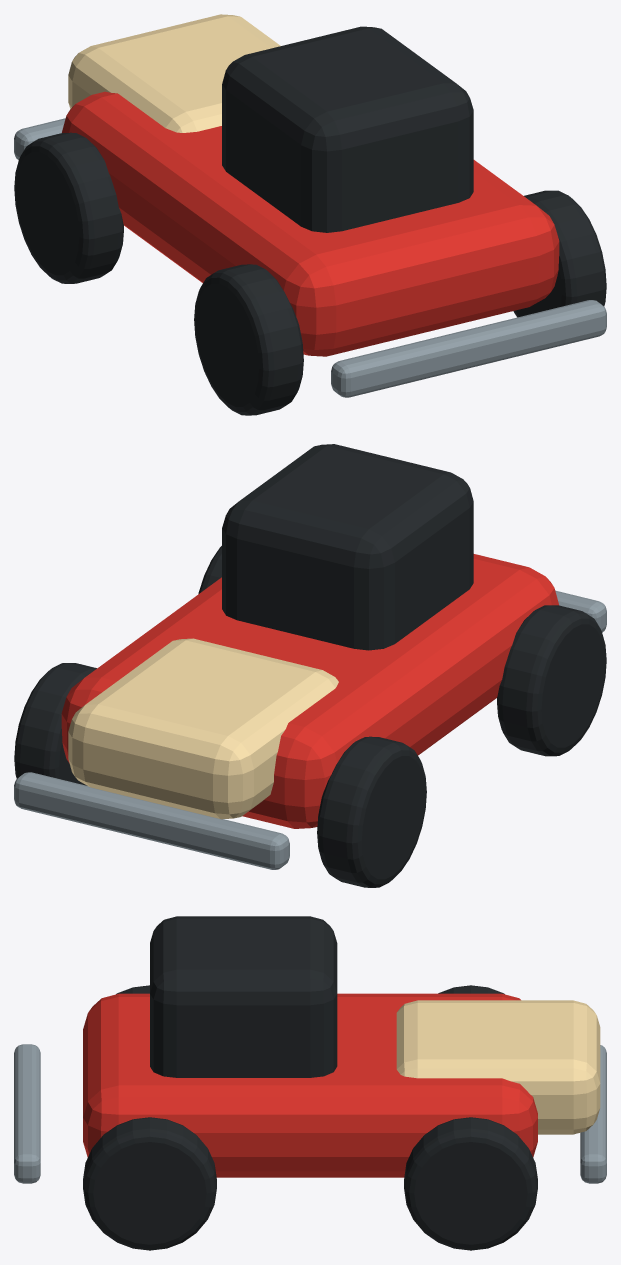
File: smoke_kart.glb
The picture shows the model from 3 angles, top to bottom: view 1: azimuth 30°, elevation 25°; view 2: azimuth 150°, elevation 25°; view 3: azimuth 270°, elevation 25°; orthographic projection. The views are drawn at different scales.
Visible parts, largest first — view 1: chassis, seat, nose, wheel_rl, wheel_fl, bumper_rear, wheel_rr, bumper_front; view 2: seat, chassis, nose, wheel_fl, wheel_rl, bumper_front, wheel_fr, bumper_rear; view 3: chassis, seat, nose, wheel_fr, wheel_rr, bumper_rear, bumper_front.
Boxes of the visible parts, <box> form: chassis: <box>62,91,559,356</box>; seat: <box>222,26,473,232</box>; nose: <box>68,14,280,132</box>; wheel_rl: <box>194,264,303,415</box>; wheel_fl: <box>14,132,123,283</box>; bumper_rear: <box>331,300,606,397</box>; wheel_rr: <box>513,190,606,317</box>; bumper_front: <box>14,118,65,160</box>; seat: <box>222,444,473,650</box>; chassis: <box>61,554,558,828</box>; nose: <box>68,638,338,819</box>; wheel_fl: <box>317,736,426,887</box>; wheel_rl: <box>497,605,606,756</box>; bumper_front: <box>14,772,289,869</box>; wheel_fr: <box>14,663,96,785</box>; bumper_rear: <box>555,590,606,632</box>; chassis: <box>83,993,537,1177</box>; seat: <box>150,916,337,1077</box>; nose: <box>396,1000,600,1134</box>; wheel_fr: <box>404,1117,537,1250</box>; wheel_rr: <box>83,1117,216,1250</box>; bumper_rear: <box>14,1044,40,1183</box>; bumper_front: <box>580,1045,606,1183</box>.
Size of the model in its own units: 1.6 by 1.16 by 2.66.
